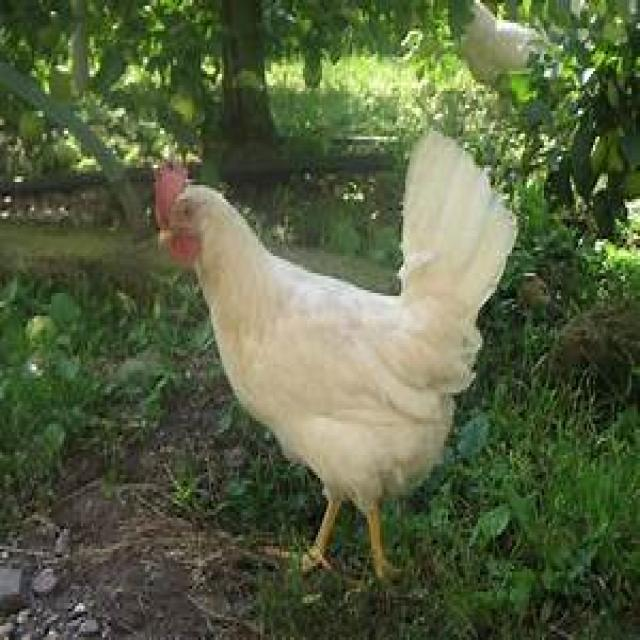hen: (155, 140, 515, 578)
